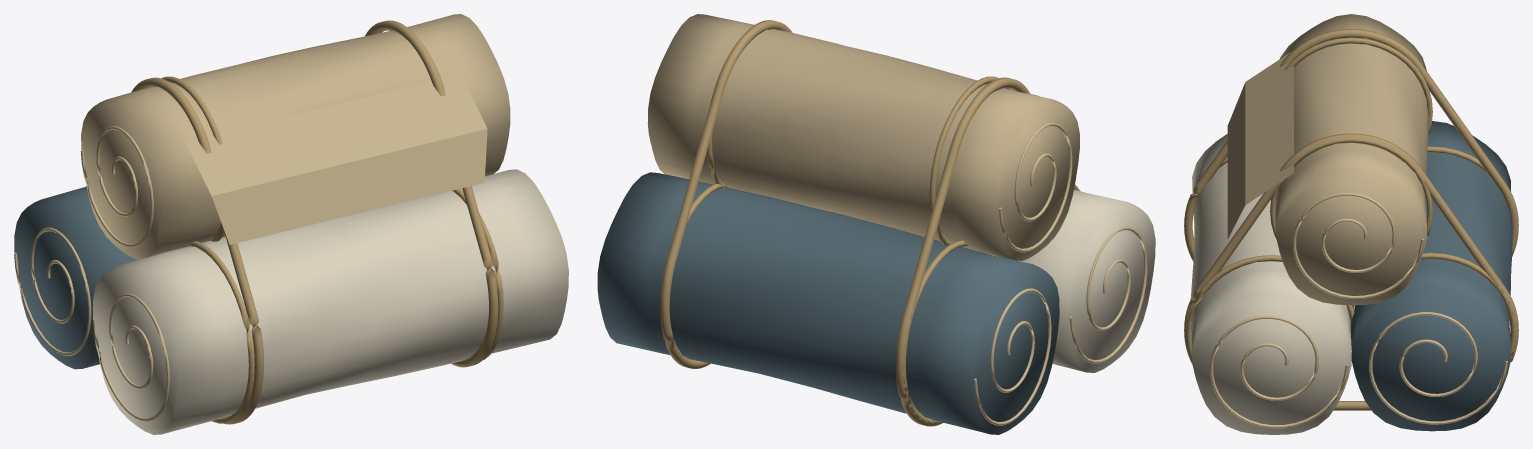
File: cloth.glb
3 views of the same model, side by side, from view 1: azimuth 30°, elevation 25°; view 2: azimuth 150°, elevation 25°; view 3: azimuth 270°, elevation 25° (orthographic). The views are drawn at different scales.
Parts seen in each view (by area): view 1: Cargo_cloth; view 2: Cargo_cloth; view 3: Cargo_cloth.
Part boxes in pixels (box(x1,y1,x2,y2)): Cargo_cloth: box(14, 14, 568, 434); Cargo_cloth: box(597, 14, 1155, 434); Cargo_cloth: box(1184, 14, 1518, 434).
Bounding box in the file's own units: 0.942 × 0.6871 × 0.7571.
